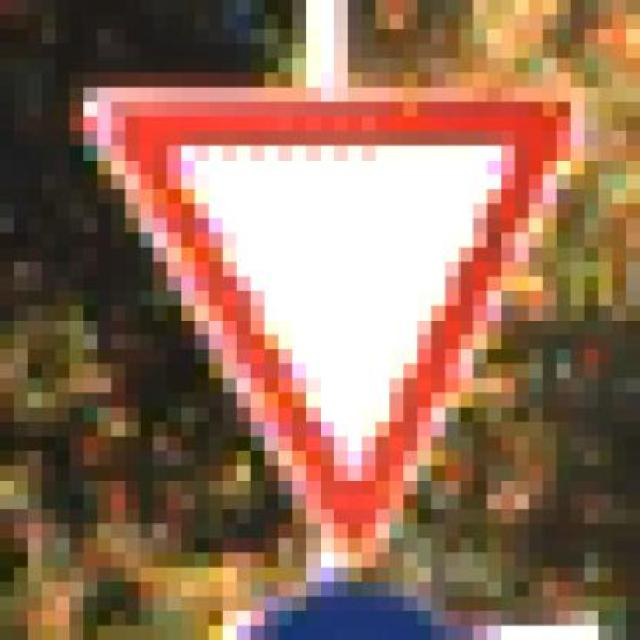Give Way: (70, 59, 612, 568)
